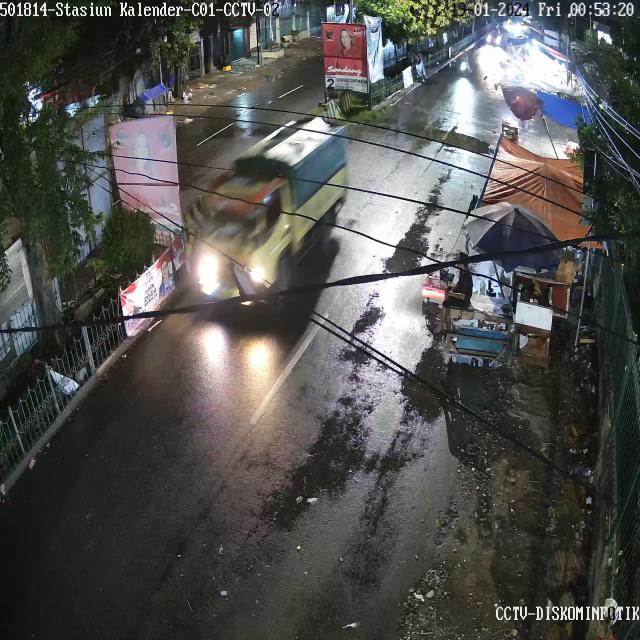Payung: (470, 197, 568, 276)
Terpal: (489, 132, 606, 255), (532, 83, 597, 140), (130, 80, 173, 103)
